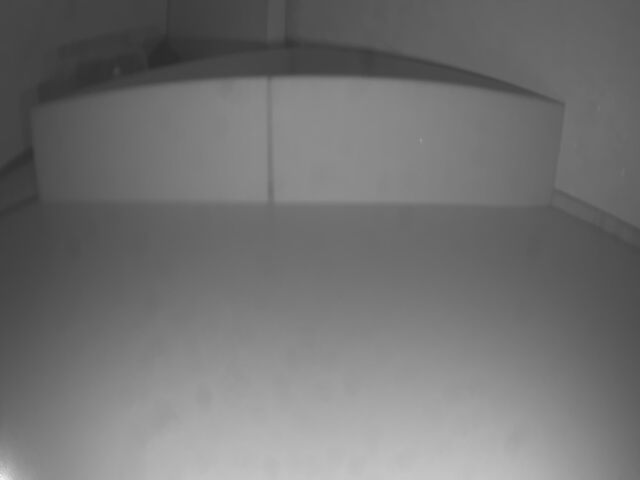Red: (32, 76, 560, 209)
